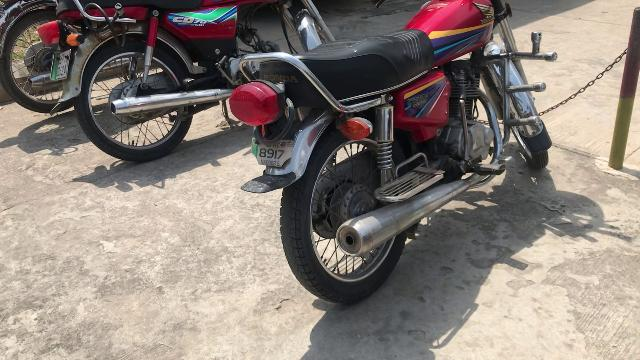plate: (248, 136, 294, 168)
